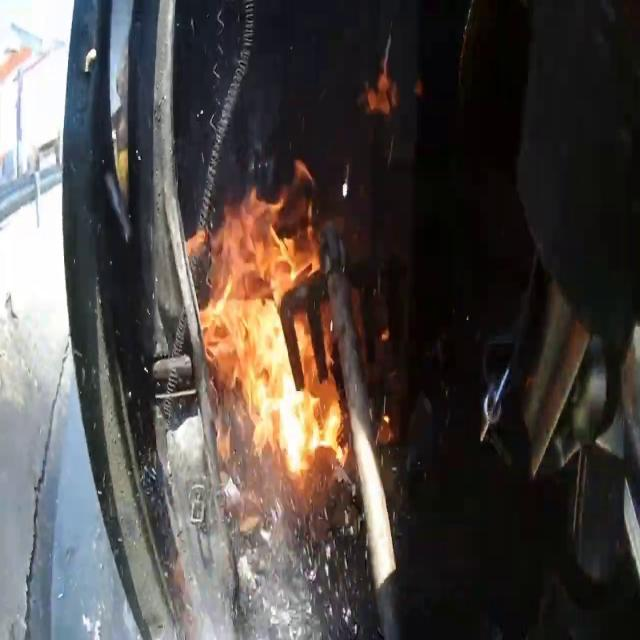Fire: (200, 174, 344, 492)
